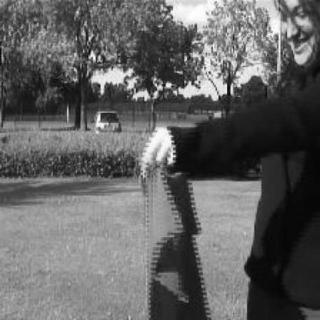other: (134, 151, 213, 317)
